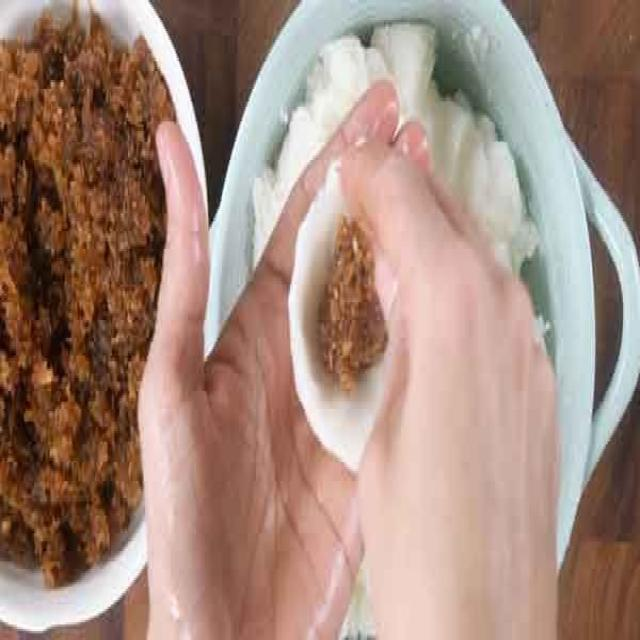poorna kolukattai: (276, 203, 406, 448)
